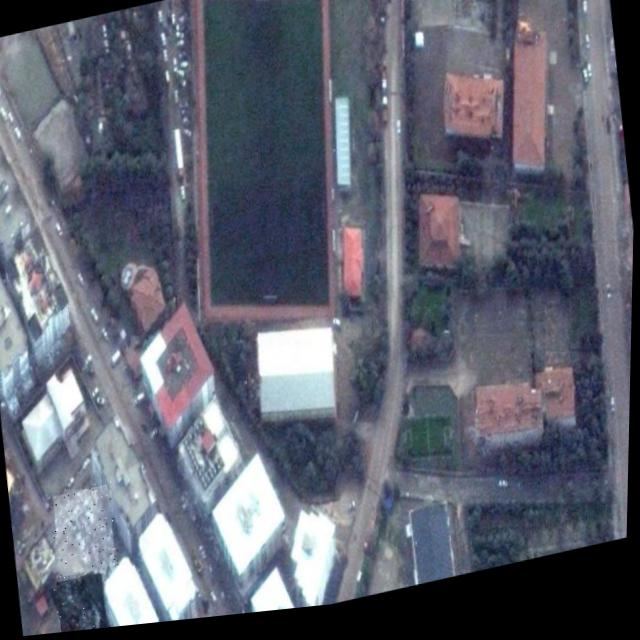Rubble: (49, 483, 124, 583), (55, 571, 116, 635)
